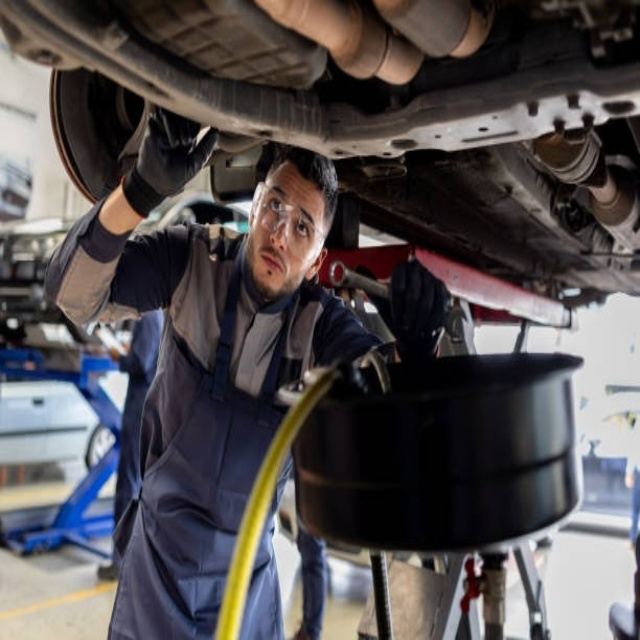Gafas: (258, 188, 323, 248)
Guantes: (123, 109, 221, 217), (389, 257, 450, 360)
Sin_mascara: (252, 248, 291, 290)
